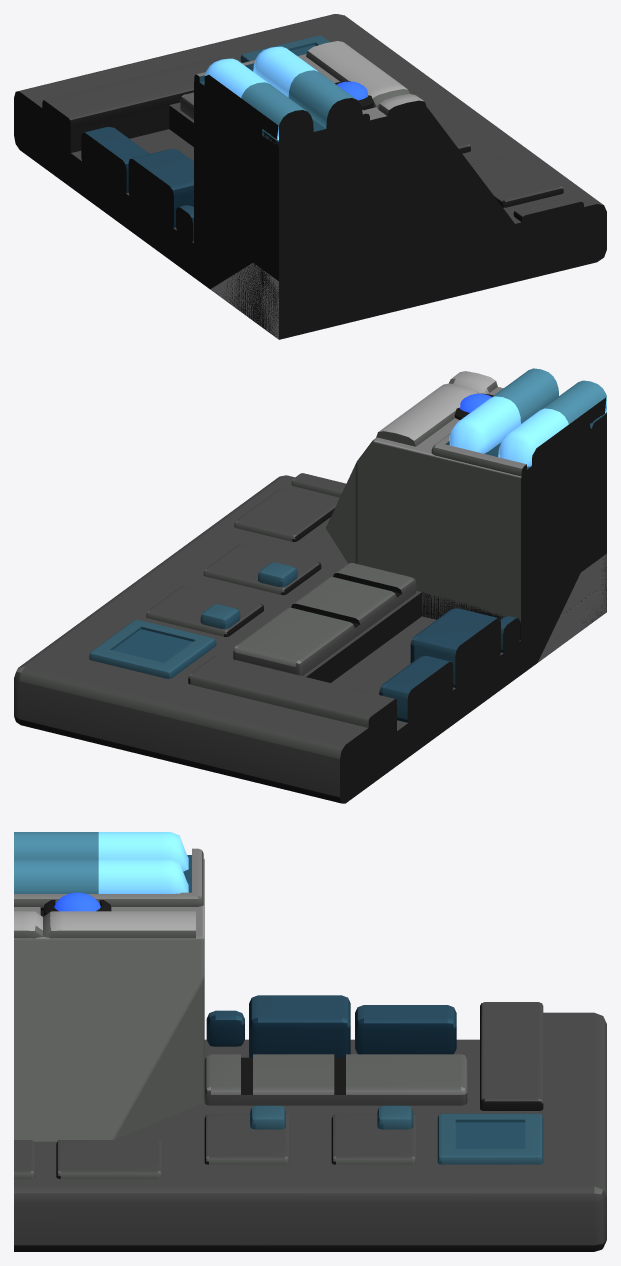
Rendered from ice_bunker_tr.glb.
The picture shows the model from 3 angles, top to bottom: view 1: azimuth 30°, elevation 25°; view 2: azimuth 150°, elevation 25°; view 3: azimuth 270°, elevation 25°; orthographic projection. The views are drawn at different scales.
Parts seen in each view (by area): view 1: ice_bunker_tr; view 2: ice_bunker_tr; view 3: ice_bunker_tr.
Part boxes in pixels (<box>): ice_bunker_tr: <box>14,14,606,339</box>; ice_bunker_tr: <box>14,368,606,803</box>; ice_bunker_tr: <box>14,832,606,1251</box>.
Bounding box in the file's own units: 20 × 13.12 × 28.
